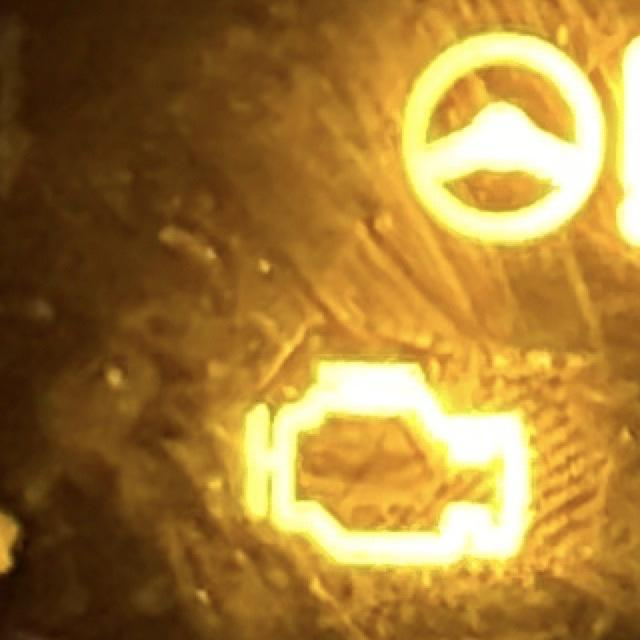Engine Issue: (243, 358, 536, 572)
Steering Wheel Locked: (399, 29, 640, 252)
